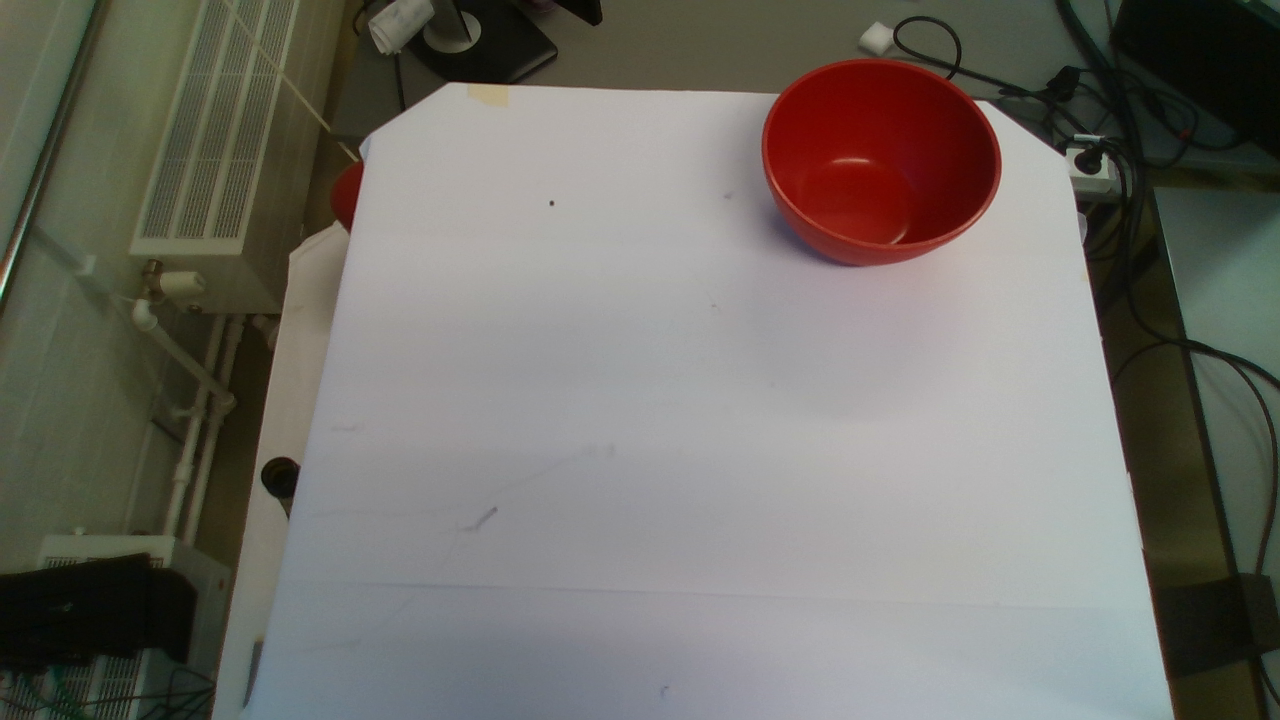hammer: (756, 59, 1004, 267)
